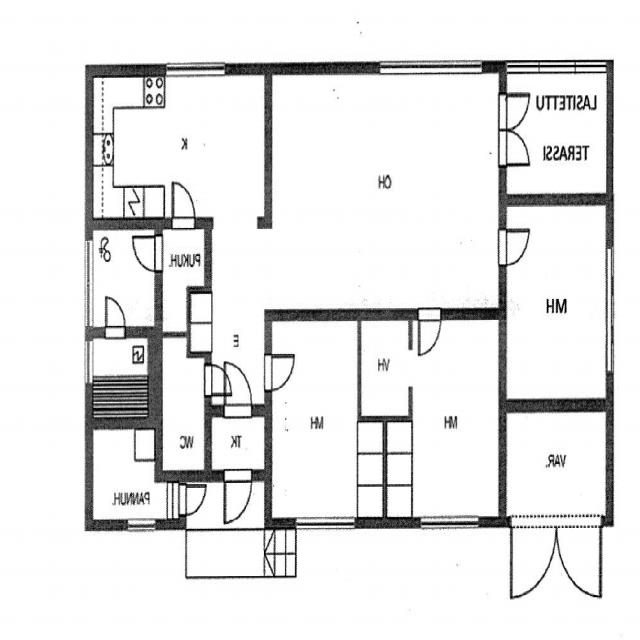door: (556, 517, 601, 597), (511, 517, 556, 597), (224, 467, 252, 523), (225, 361, 252, 418), (499, 89, 531, 129), (499, 129, 531, 169), (499, 226, 531, 266), (171, 181, 196, 230), (265, 352, 297, 390), (131, 234, 162, 272), (418, 310, 442, 358), (204, 363, 232, 397), (105, 294, 125, 338), (181, 484, 207, 514)
